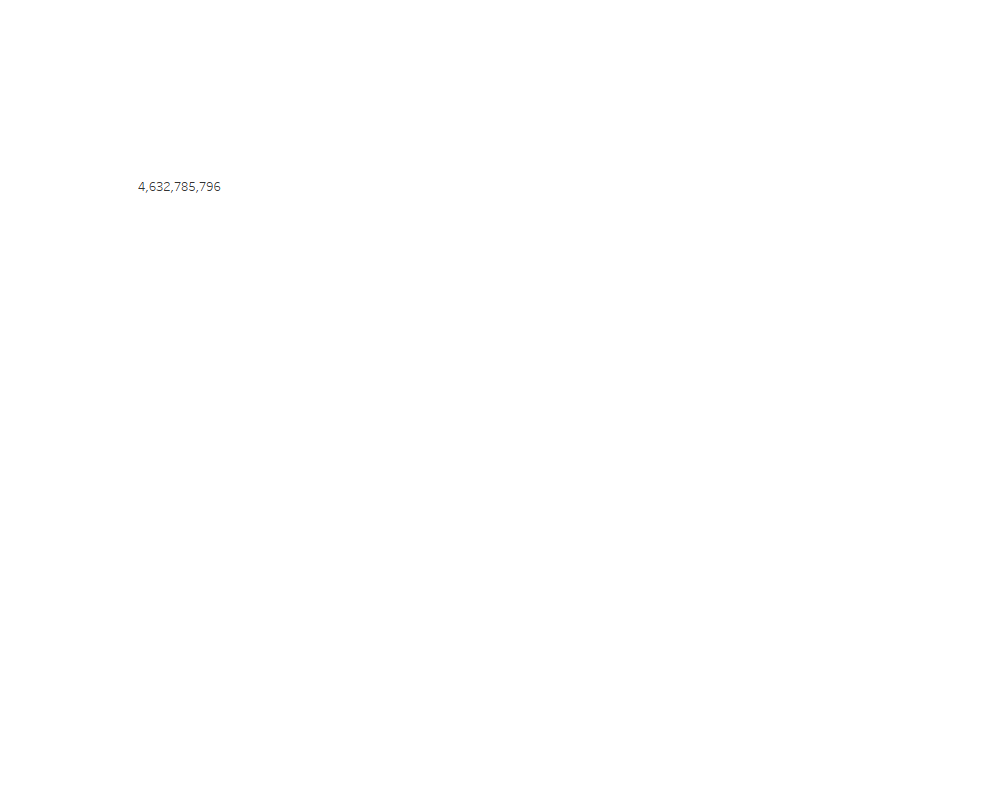

The page's visual inventory and layout, read from the dashboard file:
{"tool":"tableau","page":{"name":"Dashboard 1","canvas":[1000,800],"ordinal":0},"visuals":[{"type":"worksheet","title":"Sheet 7","mark":"Automatic","rows":["country"],"cols":["people_fully_vaccinated"],"box":[8,8,984,784]}]}

Visuals, with their boxes in screenshot pixels (x1, y1, x2, y2), scaled from the page's 1000x800 canvas onto the 1000x800 screenshot:
"Sheet 7" worksheet: pyautogui.locateOnScreen(8, 8, 992, 792)
